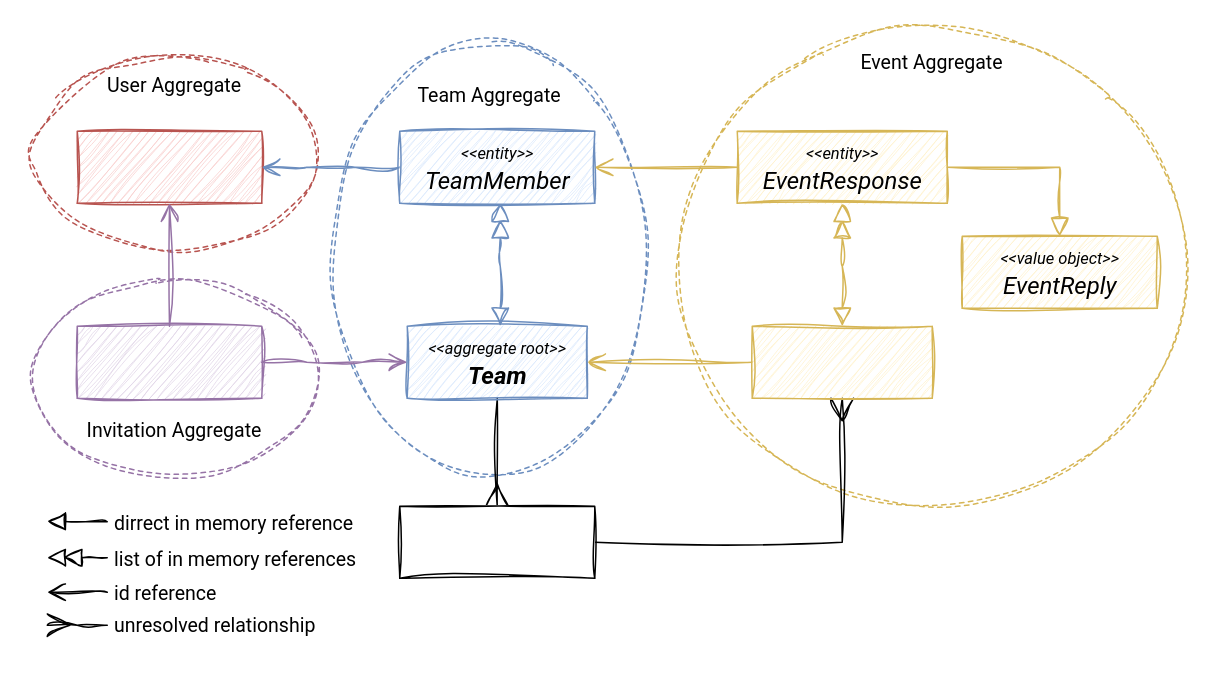
Some shapes in this 1214 by 675 pixel diagram are drawn without their labels. The shapes that lost their labels are listed below. From the top down, each one's centre as x and y in pixels, then its label:
point (169, 166): <<aggregate root>> User
point (169, 361): <<aggregate root>> Invitation
point (841, 361): <<aggregate root>> Event
point (496, 541): <<aggregate root>> EventType
